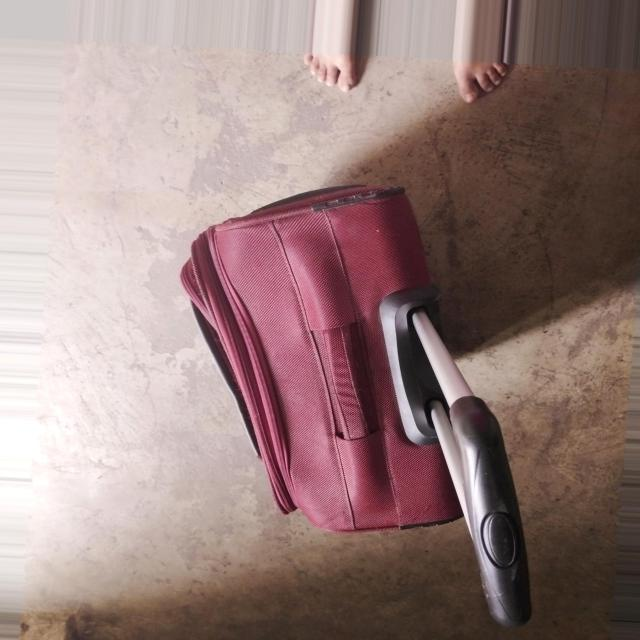Bag: (172, 163, 604, 628)
Handle: (379, 291, 534, 632)
